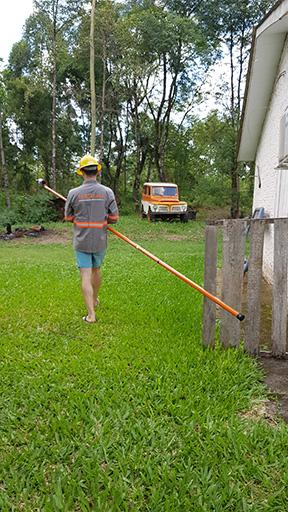Vara_Manobra: (44, 184, 245, 320)
